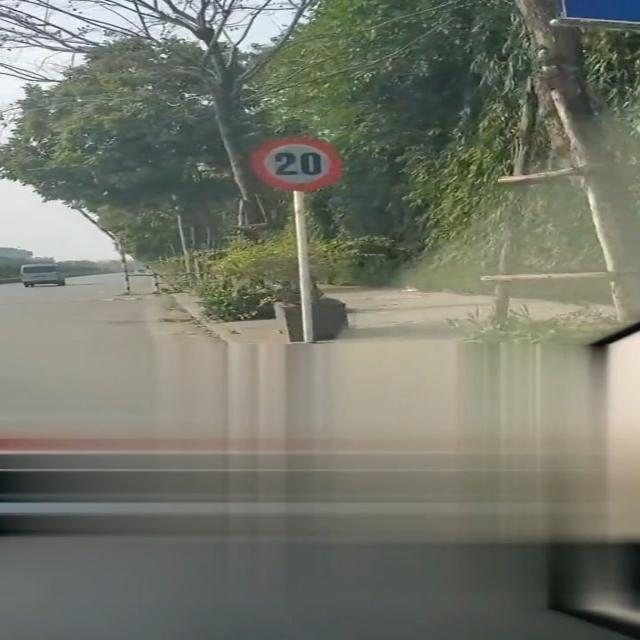127-toc-do-toi-da-20: (252, 136, 344, 189)
